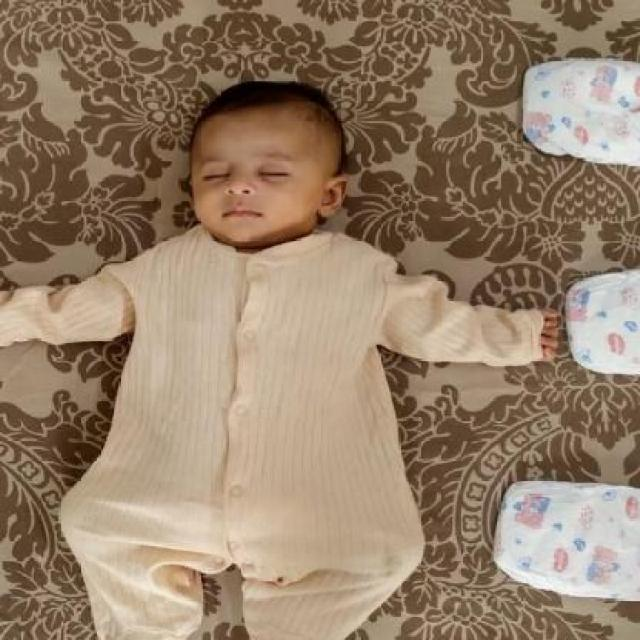baby: (0, 72, 559, 638)
